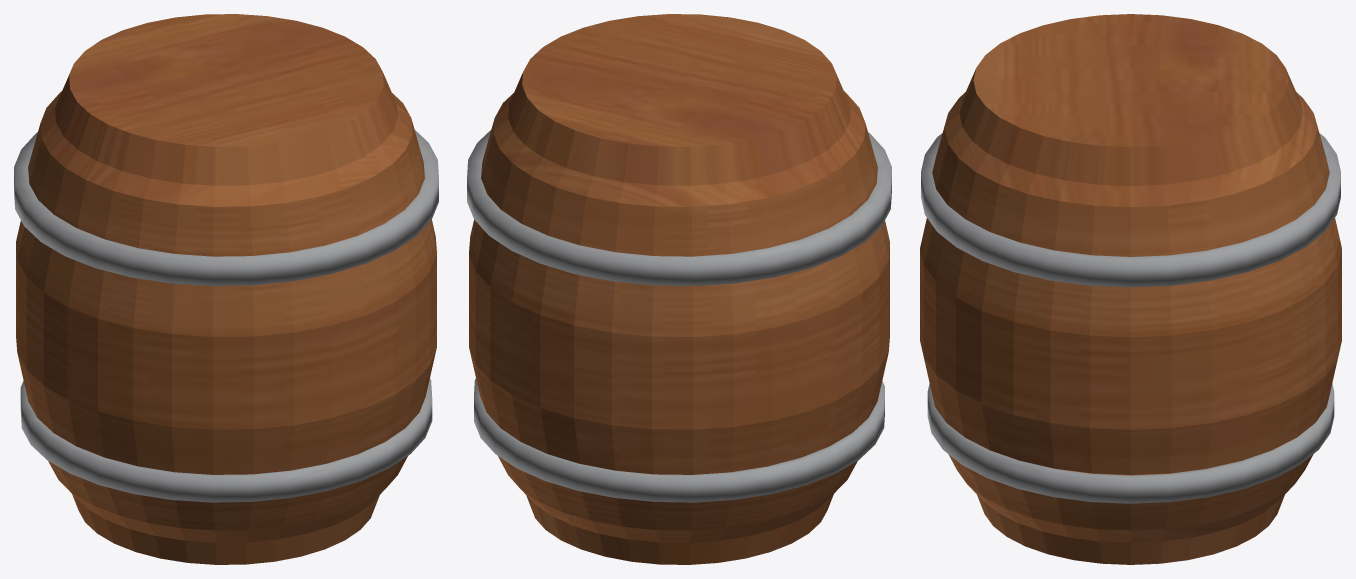
File: barrel.obj
The picture shows the model from 3 angles, left to right: view 1: azimuth 30°, elevation 25°; view 2: azimuth 150°, elevation 25°; view 3: azimuth 270°, elevation 25°; orthographic projection.
Visible parts, largest first — view 1: Windmill Body.006, Windmill Body.007; view 2: Windmill Body.006, Windmill Body.007; view 3: Windmill Body.006, Windmill Body.007.
Boxes of the visible parts, box(x1,y1,x2,y2) form: Windmill Body.006: box(16, 14, 436, 564); Windmill Body.007: box(14, 130, 438, 502); Windmill Body.006: box(469, 14, 889, 564); Windmill Body.007: box(467, 130, 891, 502); Windmill Body.006: box(920, 14, 1341, 564); Windmill Body.007: box(921, 133, 1340, 503).
Size of the model in its own units: 0.4485 by 0.4875 by 0.4425.
Materials: 2 (2 with a texture image).
